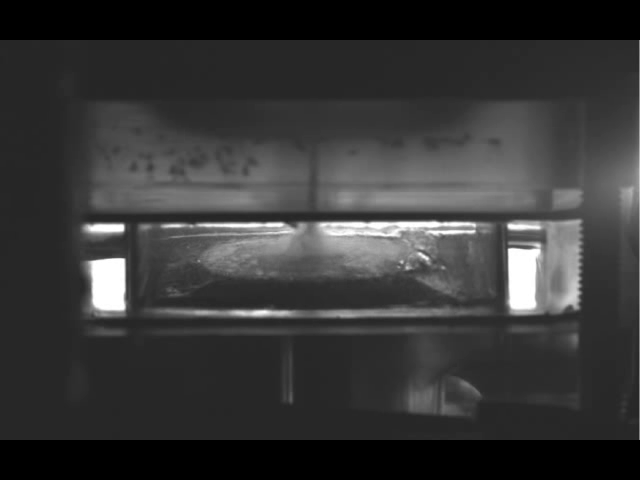Zona de teste: (204, 230, 423, 283)
